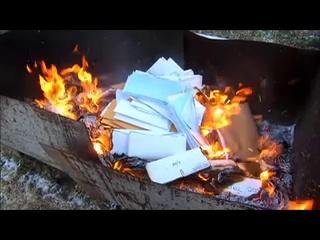Fire: (20, 49, 267, 114)
